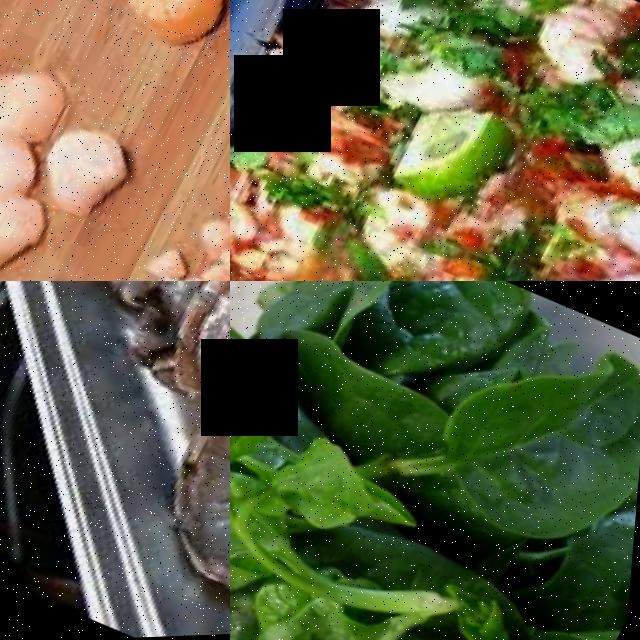lemon: (387, 90, 515, 218)
sea scallops: (31, 115, 151, 231), (0, 56, 78, 155), (118, 0, 230, 63)
